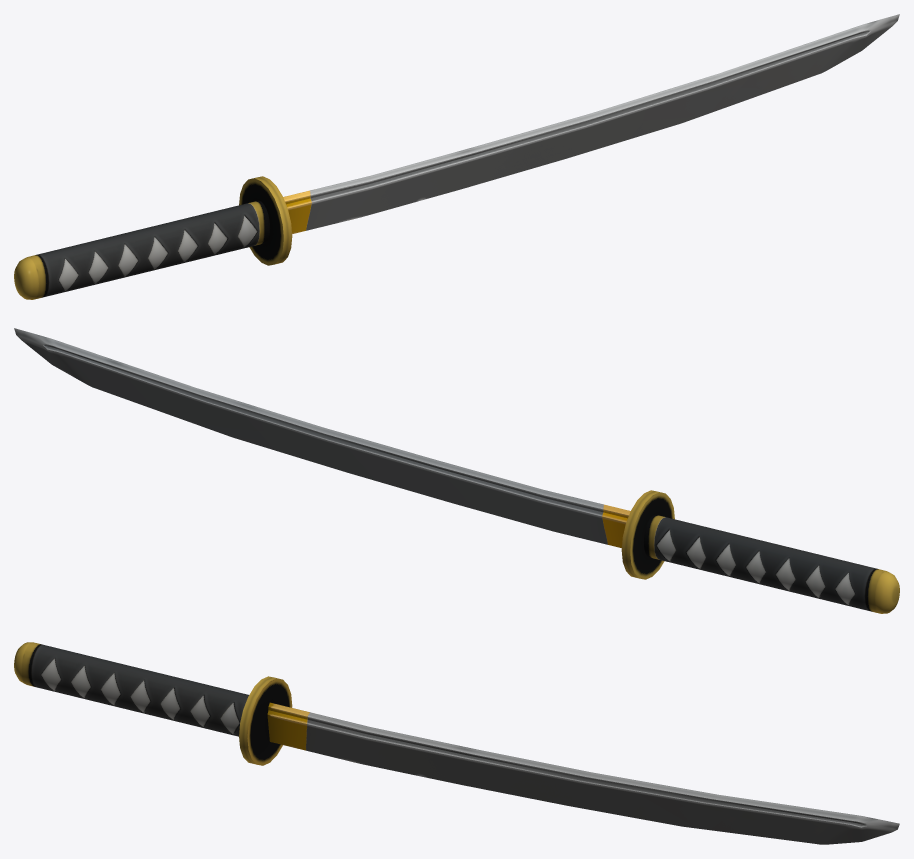
File: RD_Ninja_Katana_.fbx
3 renders of one model, top to bottom at view 1: azimuth 30°, elevation 25°; view 2: azimuth 150°, elevation 25°; view 3: azimuth 330°, elevation 25°, orthographic.
Visible parts, largest first — view 1: Katana_low3; view 2: Katana_low3; view 3: Katana_low3.
Boxes of the visible parts, bbox=[...] form: Katana_low3: bbox=[14, 14, 899, 299]; Katana_low3: bbox=[14, 328, 899, 613]; Katana_low3: bbox=[14, 642, 899, 844].
Size of the model in its own units: 90.45 by 9.1 by 7.97.
